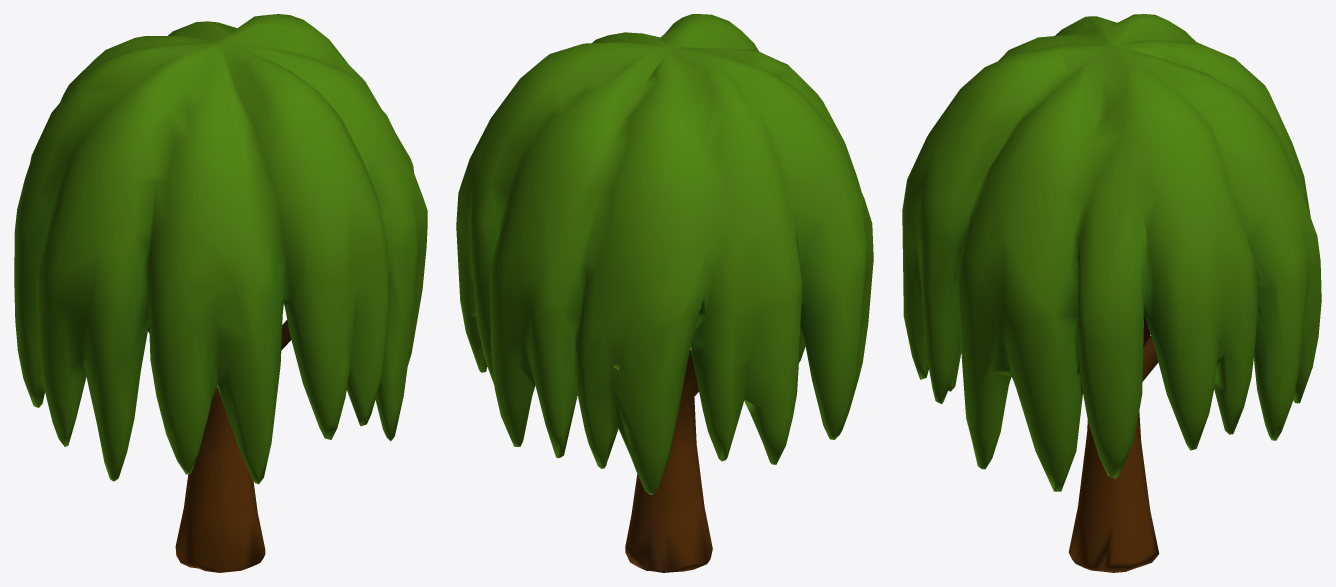
Rendered from gen3d-willow-tree-lod0.glb.
The picture shows the model from 3 angles, left to right: view 1: azimuth 30°, elevation 25°; view 2: azimuth 150°, elevation 25°; view 3: azimuth 270°, elevation 25°; orthographic projection.
Visible parts, largest first — view 1: part_0; view 2: part_0; view 3: part_0.
Boxes of the visible parts, x1,y1,x2,y2 form: part_0: [14, 14, 427, 572]; part_0: [456, 14, 873, 572]; part_0: [902, 14, 1321, 572].
Size of the model in its own units: 0.7367 by 0.969 by 0.7216.
